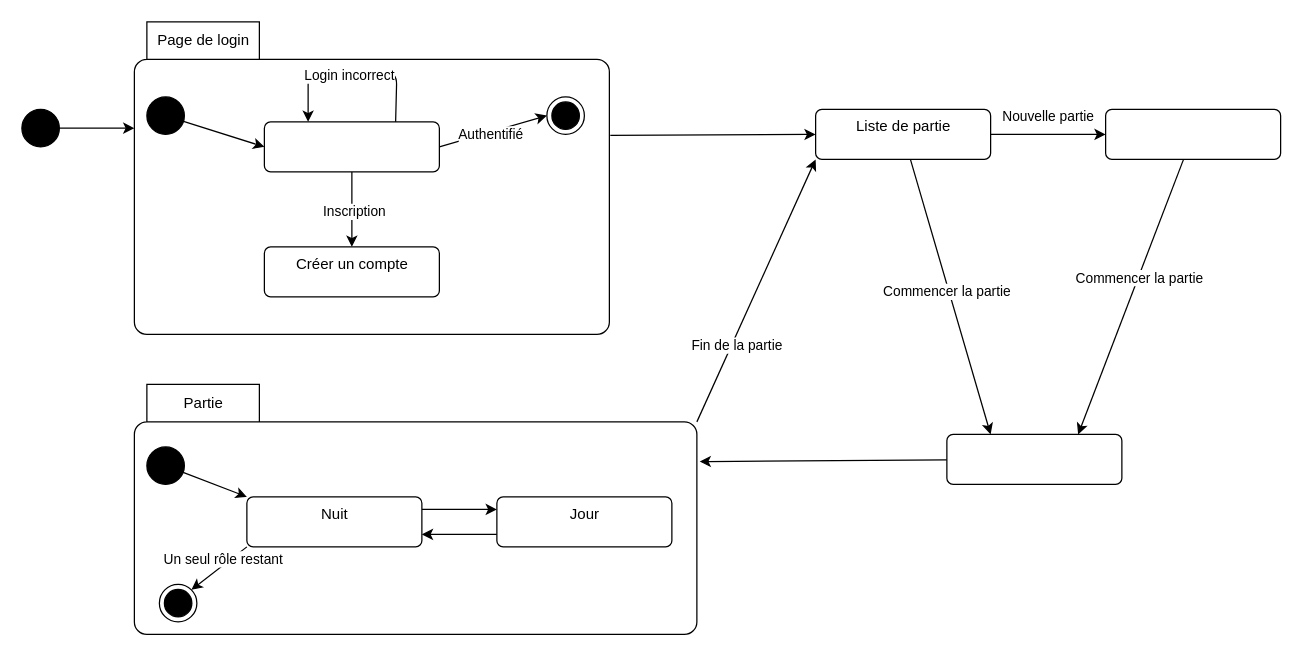
This 1303x656 diagram has some shape labels left out. Each missing label, with the box of its shape:
Attente de l'heure de début de la partie: (946, 433, 1122, 484)
Créer une partie: (1104, 108, 1281, 159)
Login: (263, 121, 439, 172)
